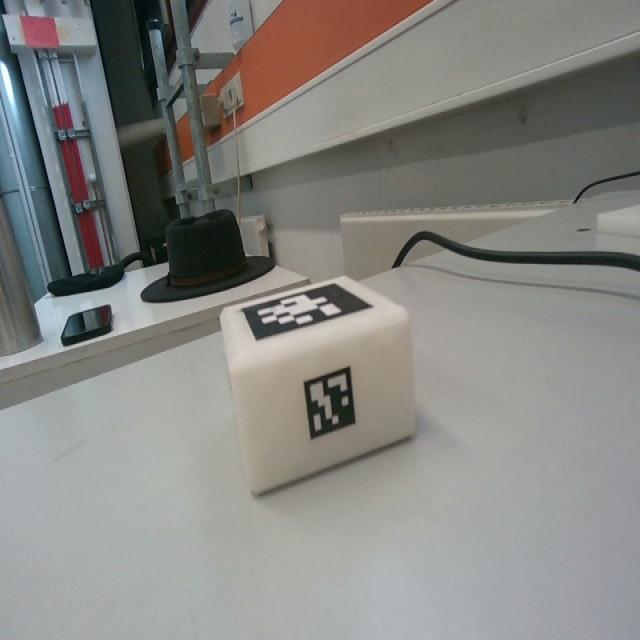Cube: (220, 271, 412, 497)
